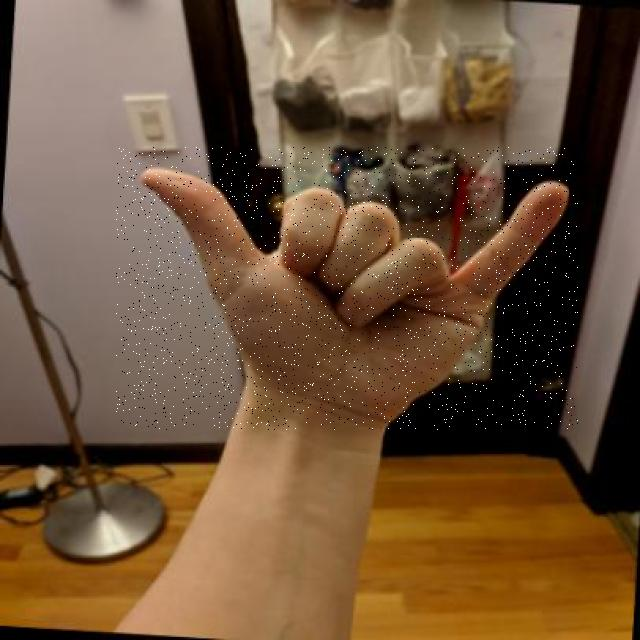Y: (116, 147, 578, 430)
